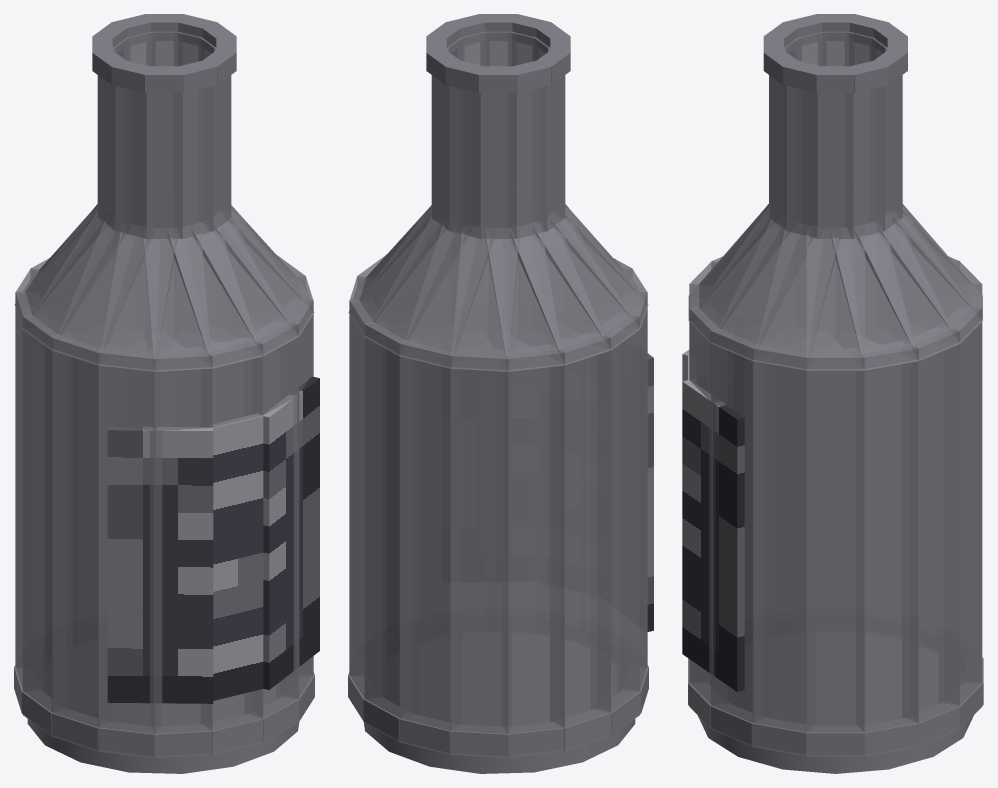
File: CMU3DDrinkBottleWhiskeyDrinksExtraCloudOpenStudy.glb
3 renders of one model, left to right at view 1: azimuth 30°, elevation 25°; view 2: azimuth 150°, elevation 25°; view 3: azimuth 270°, elevation 25°, orthographic.
Parts seen in each view (by area): view 1: source front label tangent 0, continuous hollow body wall 09, continuous hollow body wall 08, source front label tangent 2, source front label tangent 1, continuous hollow body wall 07, continuous hollow body wall 10, continuous hollow body wall 11, thick bottle heel, smooth tapered shoulder sector 12, smooth tapered shoulder sector 10, smooth tapered shoulder sector 9 (+39 smaller); view 2: continuous hollow body wall 06, continuous hollow body wall 04, continuous hollow body wall 05, continuous hollow body wall 07, continuous hollow body wall 03, continuous hollow body wall 08, thick bottle heel, continuous hollow body wall 02, continuous hollow body wall 09, smooth tapered shoulder sector 4, smooth tapered shoulder sector 6, smooth tapered shoulder sector 7 (+37 smaller); view 3: continuous hollow body wall 15, continuous hollow body wall 01, continuous hollow body wall 00, continuous hollow body wall 02, source front label tangent 2, continuous hollow body wall 03, thick bottle heel, continuous hollow body wall 14, smooth tapered shoulder sector 15, smooth tapered shoulder sector 1, smooth tapered shoulder sector 14, smooth tapered shoulder sector 2 (+36 smaller).
Boxes of the visible parts, x1,y1,x2,y2 form: source front label tangent 0: (107, 426, 213, 703); continuous hollow body wall 09: (52, 333, 112, 751); continuous hollow body wall 08: (23, 314, 72, 736); source front label tangent 2: (262, 376, 319, 689); source front label tangent 1: (208, 413, 263, 700); continuous hollow body wall 07: (15, 292, 45, 715); continuous hollow body wall 10: (98, 345, 160, 757); continuous hollow body wall 11: (151, 347, 212, 757); thick bottle heel: (27, 641, 299, 773); smooth tapered shoulder sector 12: (167, 218, 262, 368); smooth tapered shoulder sector 10: (98, 224, 177, 371); smooth tapered shoulder sector 9: (52, 215, 152, 365); continuous hollow body wall 06: (502, 345, 564, 757); continuous hollow body wall 04: (399, 338, 461, 754); continuous hollow body wall 05: (450, 347, 511, 757); continuous hollow body wall 07: (550, 333, 610, 751); continuous hollow body wall 03: (364, 322, 418, 742); continuous hollow body wall 08: (590, 314, 639, 736); thick bottle heel: (363, 632, 635, 773); continuous hollow body wall 02: (349, 299, 386, 722); continuous hollow body wall 09: (617, 292, 647, 715); smooth tapered shoulder sector 4: (400, 218, 495, 368); smooth tapered shoulder sector 6: (485, 224, 564, 371); smooth tapered shoulder sector 7: (510, 215, 610, 365); continuous hollow body wall 15: (752, 341, 815, 756); continuous hollow body wall 01: (856, 341, 918, 756); continuous hollow body wall 00: (806, 348, 865, 756); continuous hollow body wall 02: (902, 327, 959, 746); source front label tangent 2: (682, 380, 744, 691); continuous hollow body wall 03: (938, 307, 982, 729); thick bottle heel: (698, 633, 973, 773); continuous hollow body wall 14: (711, 327, 769, 746); smooth tapered shoulder sector 15: (752, 223, 840, 370); smooth tapered shoulder sector 1: (830, 222, 918, 370); smooth tapered shoulder sector 14: (711, 212, 816, 360); smooth tapered shoulder sector 2: (855, 212, 960, 360).
Bounding box in the file's own units: 0.3074 × 0.7695 × 0.3132.
6 materials, 3 textured.
